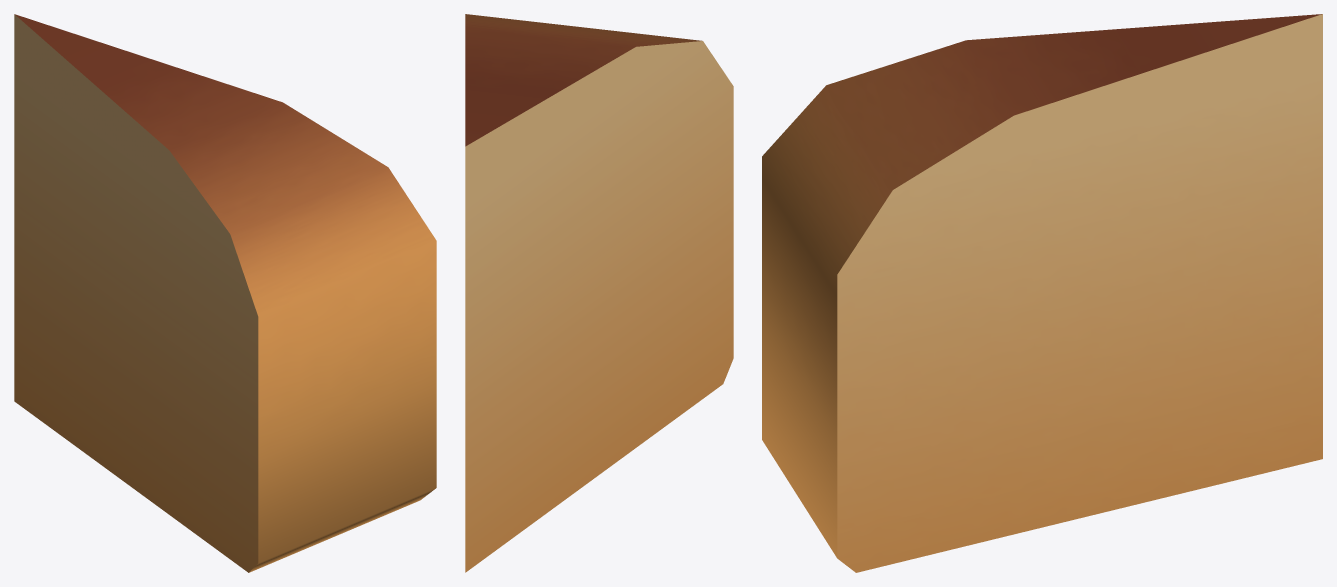
The model's file is m_JapaneseCheesecake02_Slice.fbx.
3 renders of one model, left to right at view 1: azimuth 30°, elevation 25°; view 2: azimuth 150°, elevation 25°; view 3: azimuth 270°, elevation 25°, orthographic. The views are drawn at different scales.
Visible parts, largest first — view 1: m_JapaneseCheesecake02_Slice; view 2: m_JapaneseCheesecake02_Slice; view 3: m_JapaneseCheesecake02_Slice.
Boxes of the visible parts, box(x1,y1,x2,y2) form: m_JapaneseCheesecake02_Slice: box(14, 14, 436, 572); m_JapaneseCheesecake02_Slice: box(465, 14, 733, 572); m_JapaneseCheesecake02_Slice: box(762, 14, 1322, 572).
Size of the model in its own units: 7 by 12.26 by 14.
